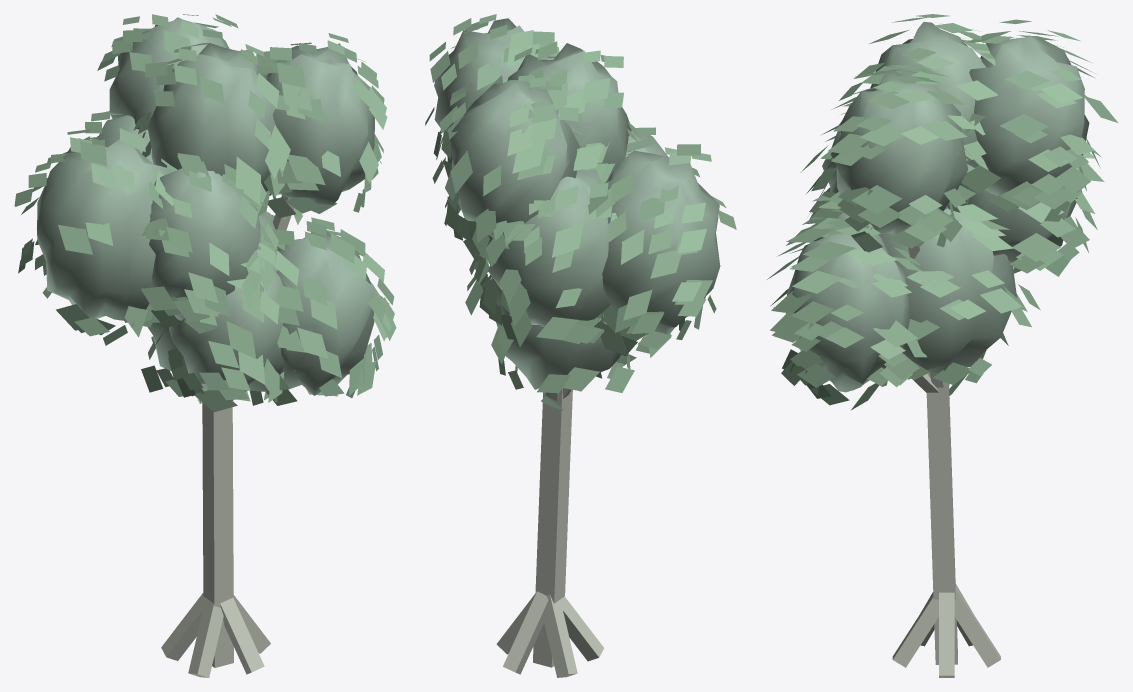
File: birch.glb
The picture shows the model from 3 angles, left to right: view 1: azimuth 30°, elevation 25°; view 2: azimuth 150°, elevation 25°; view 3: azimuth 270°, elevation 25°; orthographic projection. The views are drawn at different scales.
Visible parts, largest first — view 1: SourceMesh_00024, SourceMesh_00019, SourceMesh_00020, SourceMesh_00023, SourceMesh_00016, SourceMesh_00018, SourceMesh_00000, SourceMesh_00021, SourceMesh_00017, SourceMesh_00003, SourceMesh_00002, SourceMesh_00004 (+3 smaller); view 2: SourceMesh_00024, SourceMesh_00019, SourceMesh_00017, SourceMesh_00022, SourceMesh_00000, SourceMesh_00020, SourceMesh_00015, SourceMesh_00023, SourceMesh_00004, SourceMesh_00005, SourceMesh_00003, SourceMesh_00001; view 3: SourceMesh_00024, SourceMesh_00017, SourceMesh_00023, SourceMesh_00015, SourceMesh_00018, SourceMesh_00000, SourceMesh_00020, SourceMesh_00022, SourceMesh_00001, SourceMesh_00005, SourceMesh_00002.
Boxes of the visible parts, left/top/right/bottom form: SourceMesh_00024: left=14, top=14, right=396, bottom=412; SourceMesh_00019: left=37, top=138, right=169, bottom=320; SourceMesh_00020: left=147, top=43, right=275, bottom=195; SourceMesh_00023: left=266, top=43, right=375, bottom=204; SourceMesh_00016: left=149, top=168, right=260, bottom=320; SourceMesh_00018: left=276, top=231, right=374, bottom=395; SourceMesh_00000: left=202, top=402, right=233, bottom=667; SourceMesh_00021: left=169, top=254, right=284, bottom=400; SourceMesh_00017: left=109, top=17, right=229, bottom=129; SourceMesh_00003: left=188, top=598, right=223, bottom=677; SourceMesh_00002: left=220, top=598, right=264, bottom=674; SourceMesh_00004: left=161, top=593, right=208, bottom=660; SourceMesh_00024: left=425, top=14, right=736, bottom=410; SourceMesh_00019: left=602, top=150, right=720, bottom=334; SourceMesh_00017: left=450, top=80, right=580, bottom=237; SourceMesh_00022: left=488, top=169, right=610, bottom=326; SourceMesh_00000: left=533, top=388, right=572, bottom=667; SourceMesh_00020: left=507, top=43, right=631, bottom=182; SourceMesh_00015: left=491, top=276, right=620, bottom=391; SourceMesh_00023: left=434, top=18, right=551, bottom=132; SourceMesh_00004: left=543, top=594, right=577, bottom=677; SourceMesh_00005: left=503, top=591, right=548, bottom=674; SourceMesh_00003: left=557, top=596, right=603, bottom=661; SourceMesh_00001: left=496, top=594, right=535, bottom=654; SourceMesh_00024: left=767, top=14, right=1117, bottom=410; SourceMesh_00017: left=969, top=36, right=1089, bottom=207; SourceMesh_00023: left=830, top=69, right=968, bottom=235; SourceMesh_00015: left=878, top=208, right=1016, bottom=379; SourceMesh_00018: left=786, top=225, right=909, bottom=392; SourceMesh_00000: left=926, top=372, right=957, bottom=664; SourceMesh_00020: left=870, top=22, right=986, bottom=186; SourceMesh_00022: left=961, top=190, right=1081, bottom=268; SourceMesh_00001: left=939, top=592, right=954, bottom=677; SourceMesh_00005: left=954, top=587, right=1000, bottom=667; SourceMesh_00002: left=892, top=594, right=938, bottom=667.
Bounding box in the file's own units: 2.13 × 4.06 × 2.05.
